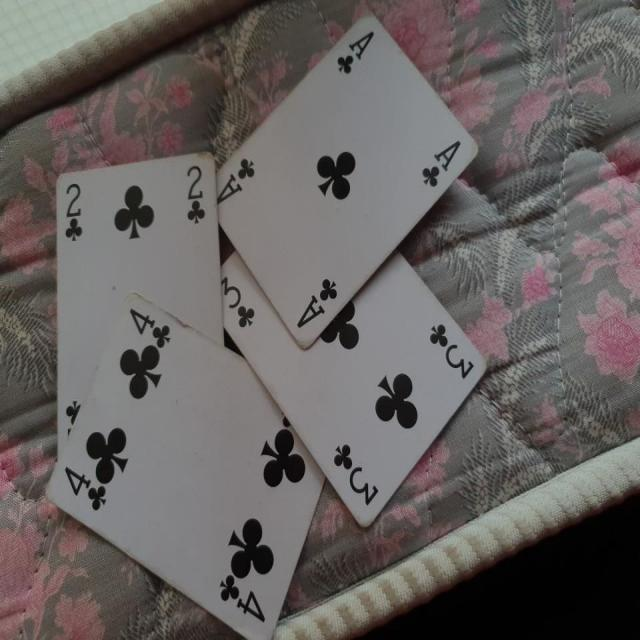2 Trefoils: (55, 148, 223, 457)
3 Trefoils: (220, 249, 491, 528)
4 Trefoils: (44, 294, 327, 640)
A Trefoils: (215, 9, 479, 353)
